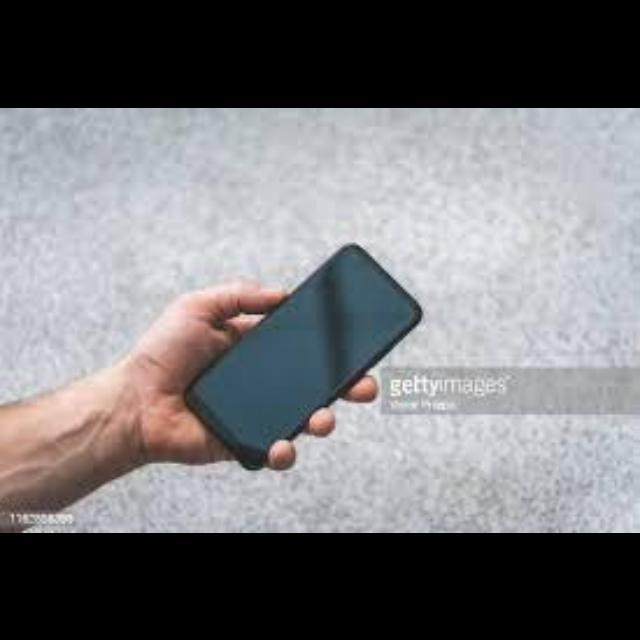phone: (179, 244, 423, 468)
